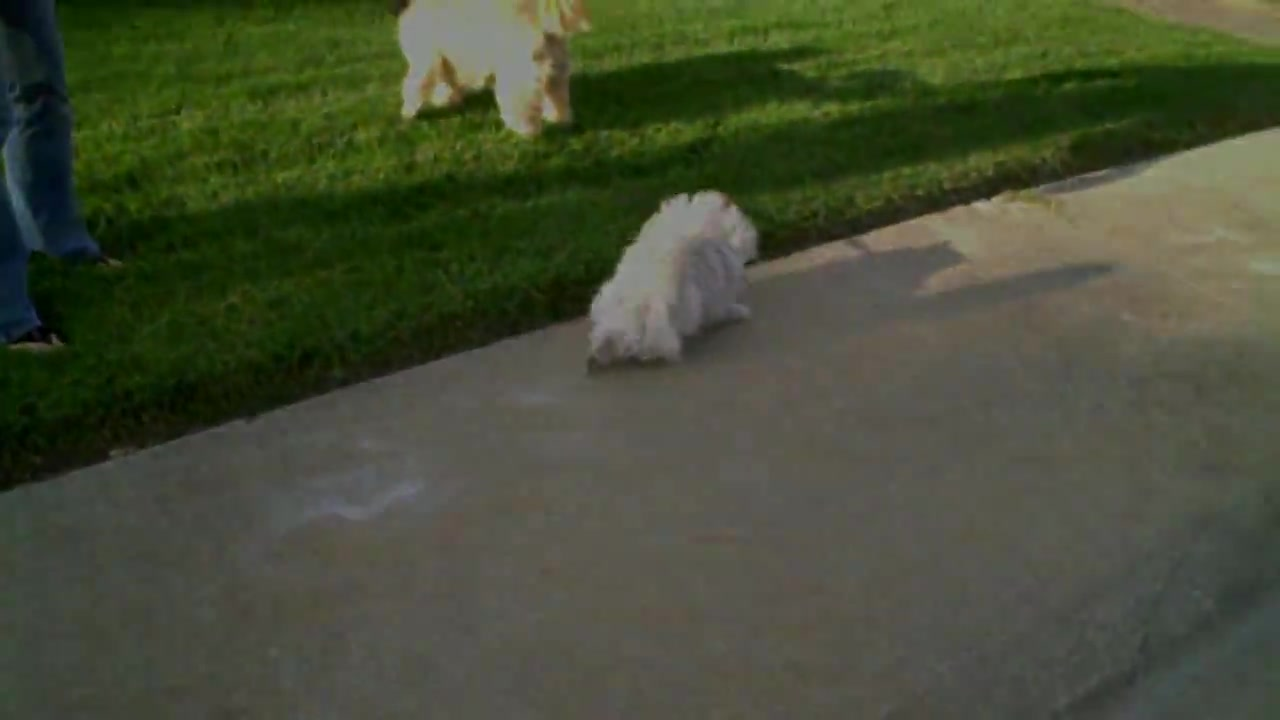dog: (582, 185, 764, 379)
